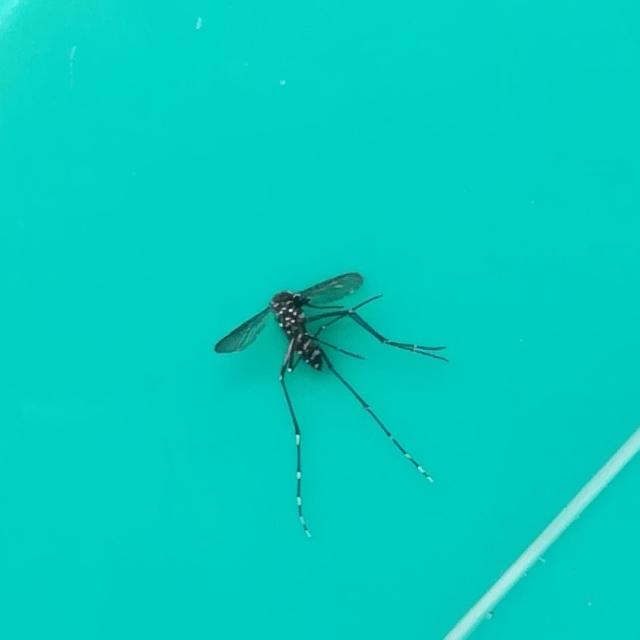albopictus: (211, 262, 445, 529)
